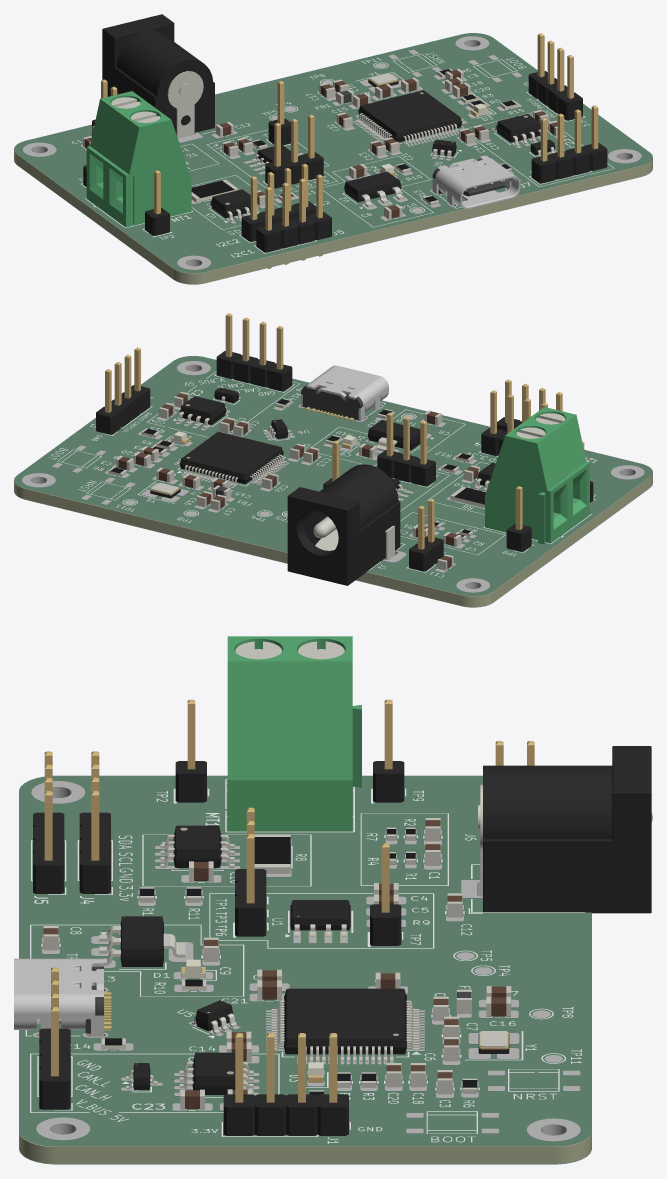
Rendered from board.glb.
The picture shows the model from 3 angles, top to bottom: view 1: azimuth 30°, elevation 25°; view 2: azimuth 150°, elevation 25°; view 3: azimuth 270°, elevation 25°; orthographic projection. The views are drawn at different scales.
Visible parts, largest first — view 1: =>[0:1:1:46], =>[0:1:1:48], =>[0:1:1:13] (×4), =>[0:1:1:42], =>[0:1:1:40], =>[0:1:1:43], =>[0:1:1:44], =>[0:1:1:38], =>[0:1:1:17] (×5), =>[0:1:1:36], =>[0:1:1:5] (×2), =>[0:1:1:31] (+5 smaller); view 2: =>[0:1:1:46], =>[0:1:1:48], =>[0:1:1:40], =>[0:1:1:42], =>[0:1:1:13] (×4), =>[0:1:1:43], =>[0:1:1:44], =>[0:1:1:38], =>[0:1:1:17] (×4), =>[0:1:1:36], =>[0:1:1:19], =>[0:1:1:35] (+4 smaller); view 3: =>[0:1:1:46], =>[0:1:1:48], =>[0:1:1:40], =>[0:1:1:42], =>[0:1:1:13] (×4), =>[0:1:1:43], =>[0:1:1:44], =>[0:1:1:38], =>[0:1:1:17] (×4), =>[0:1:1:36], =>[0:1:1:5] (×2), =>[0:1:1:31] (+3 smaller).
Part boxes in pixels (x1,y1,x2,y2): =>[0:1:1:46]: (14,33,652,273); =>[0:1:1:48]: (14,34,652,284); =>[0:1:1:13] (×4): (241,33,607,268); =>[0:1:1:42]: (86,91,191,227); =>[0:1:1:40]: (102,14,214,138); =>[0:1:1:43]: (22,36,641,269); =>[0:1:1:44]: (71,52,614,257); =>[0:1:1:38]: (355,90,465,145); =>[0:1:1:17] (×5): (145,81,323,235); =>[0:1:1:36]: (432,155,520,208); =>[0:1:1:5] (×2): (208,114,540,221); =>[0:1:1:31]: (344,171,404,207); =>[0:1:1:46]: (14,356,652,596); =>[0:1:1:48]: (14,357,652,607); =>[0:1:1:40]: (287,464,400,585); =>[0:1:1:42]: (485,407,589,544); =>[0:1:1:13] (×4): (96,313,562,455); =>[0:1:1:43]: (22,361,644,592); =>[0:1:1:44]: (49,371,596,577); =>[0:1:1:38]: (177,431,286,486); =>[0:1:1:17] (×4): (377,412,531,551); =>[0:1:1:36]: (301,365,388,421); =>[0:1:1:19]: (409,498,443,571); =>[0:1:1:35]: (301,385,363,420); =>[0:1:1:46]: (19,775,591,1146); =>[0:1:1:48]: (19,777,591,1163); =>[0:1:1:40]: (478,746,652,913); =>[0:1:1:42]: (227,636,361,831); =>[0:1:1:13] (×4): (33,751,348,1135); =>[0:1:1:43]: (31,781,580,1141); =>[0:1:1:44]: (25,779,585,1143); =>[0:1:1:38]: (271,988,419,1061); =>[0:1:1:17] (×4): (175,699,404,945); =>[0:1:1:36]: (14,958,103,1036); =>[0:1:1:5] (×2): (160,825,253,1094); =>[0:1:1:31]: (99,916,185,966).
Bounding box in the file's own units: 0.0712 × 0.0177 × 0.0518.
